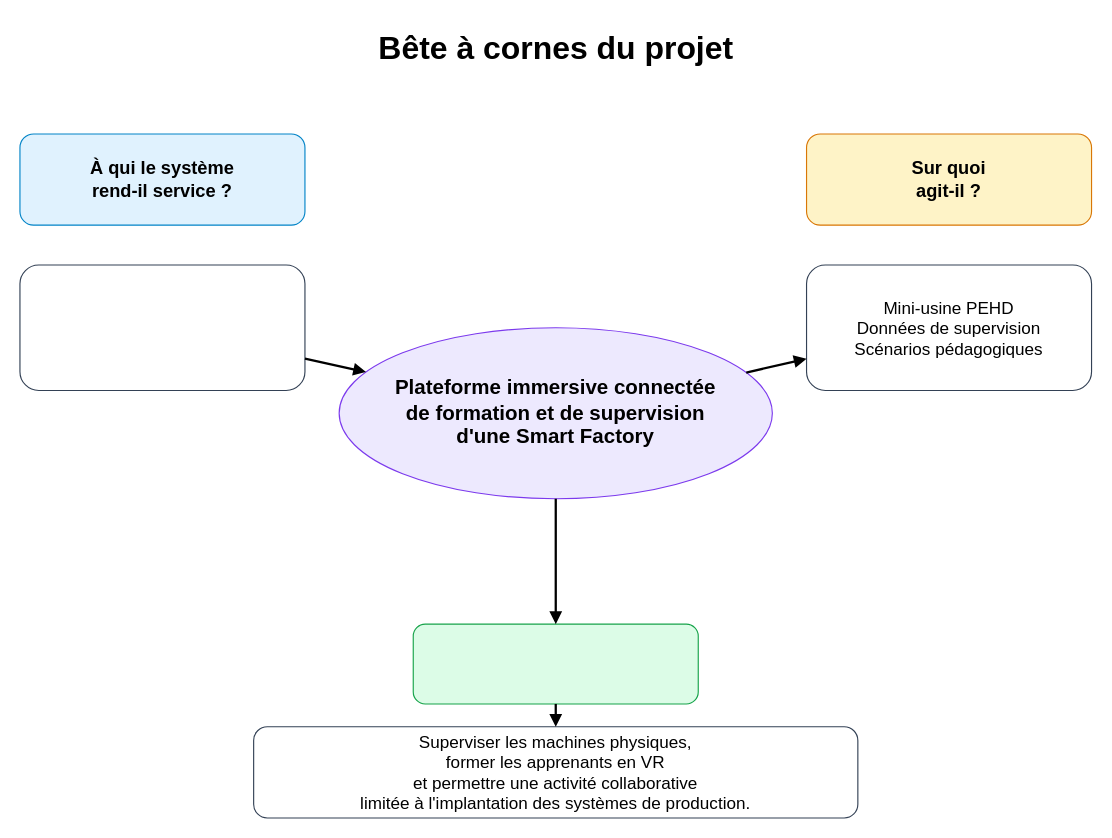
This 1112x838 diagram has some shape labels left out. Here are the shapes that lost their labels. From the top down, the centre of each, then its label:
At [162,327]: "Étudiants Formateurs Superviseurs".
At [555,663]: "Dans quel but ?".
